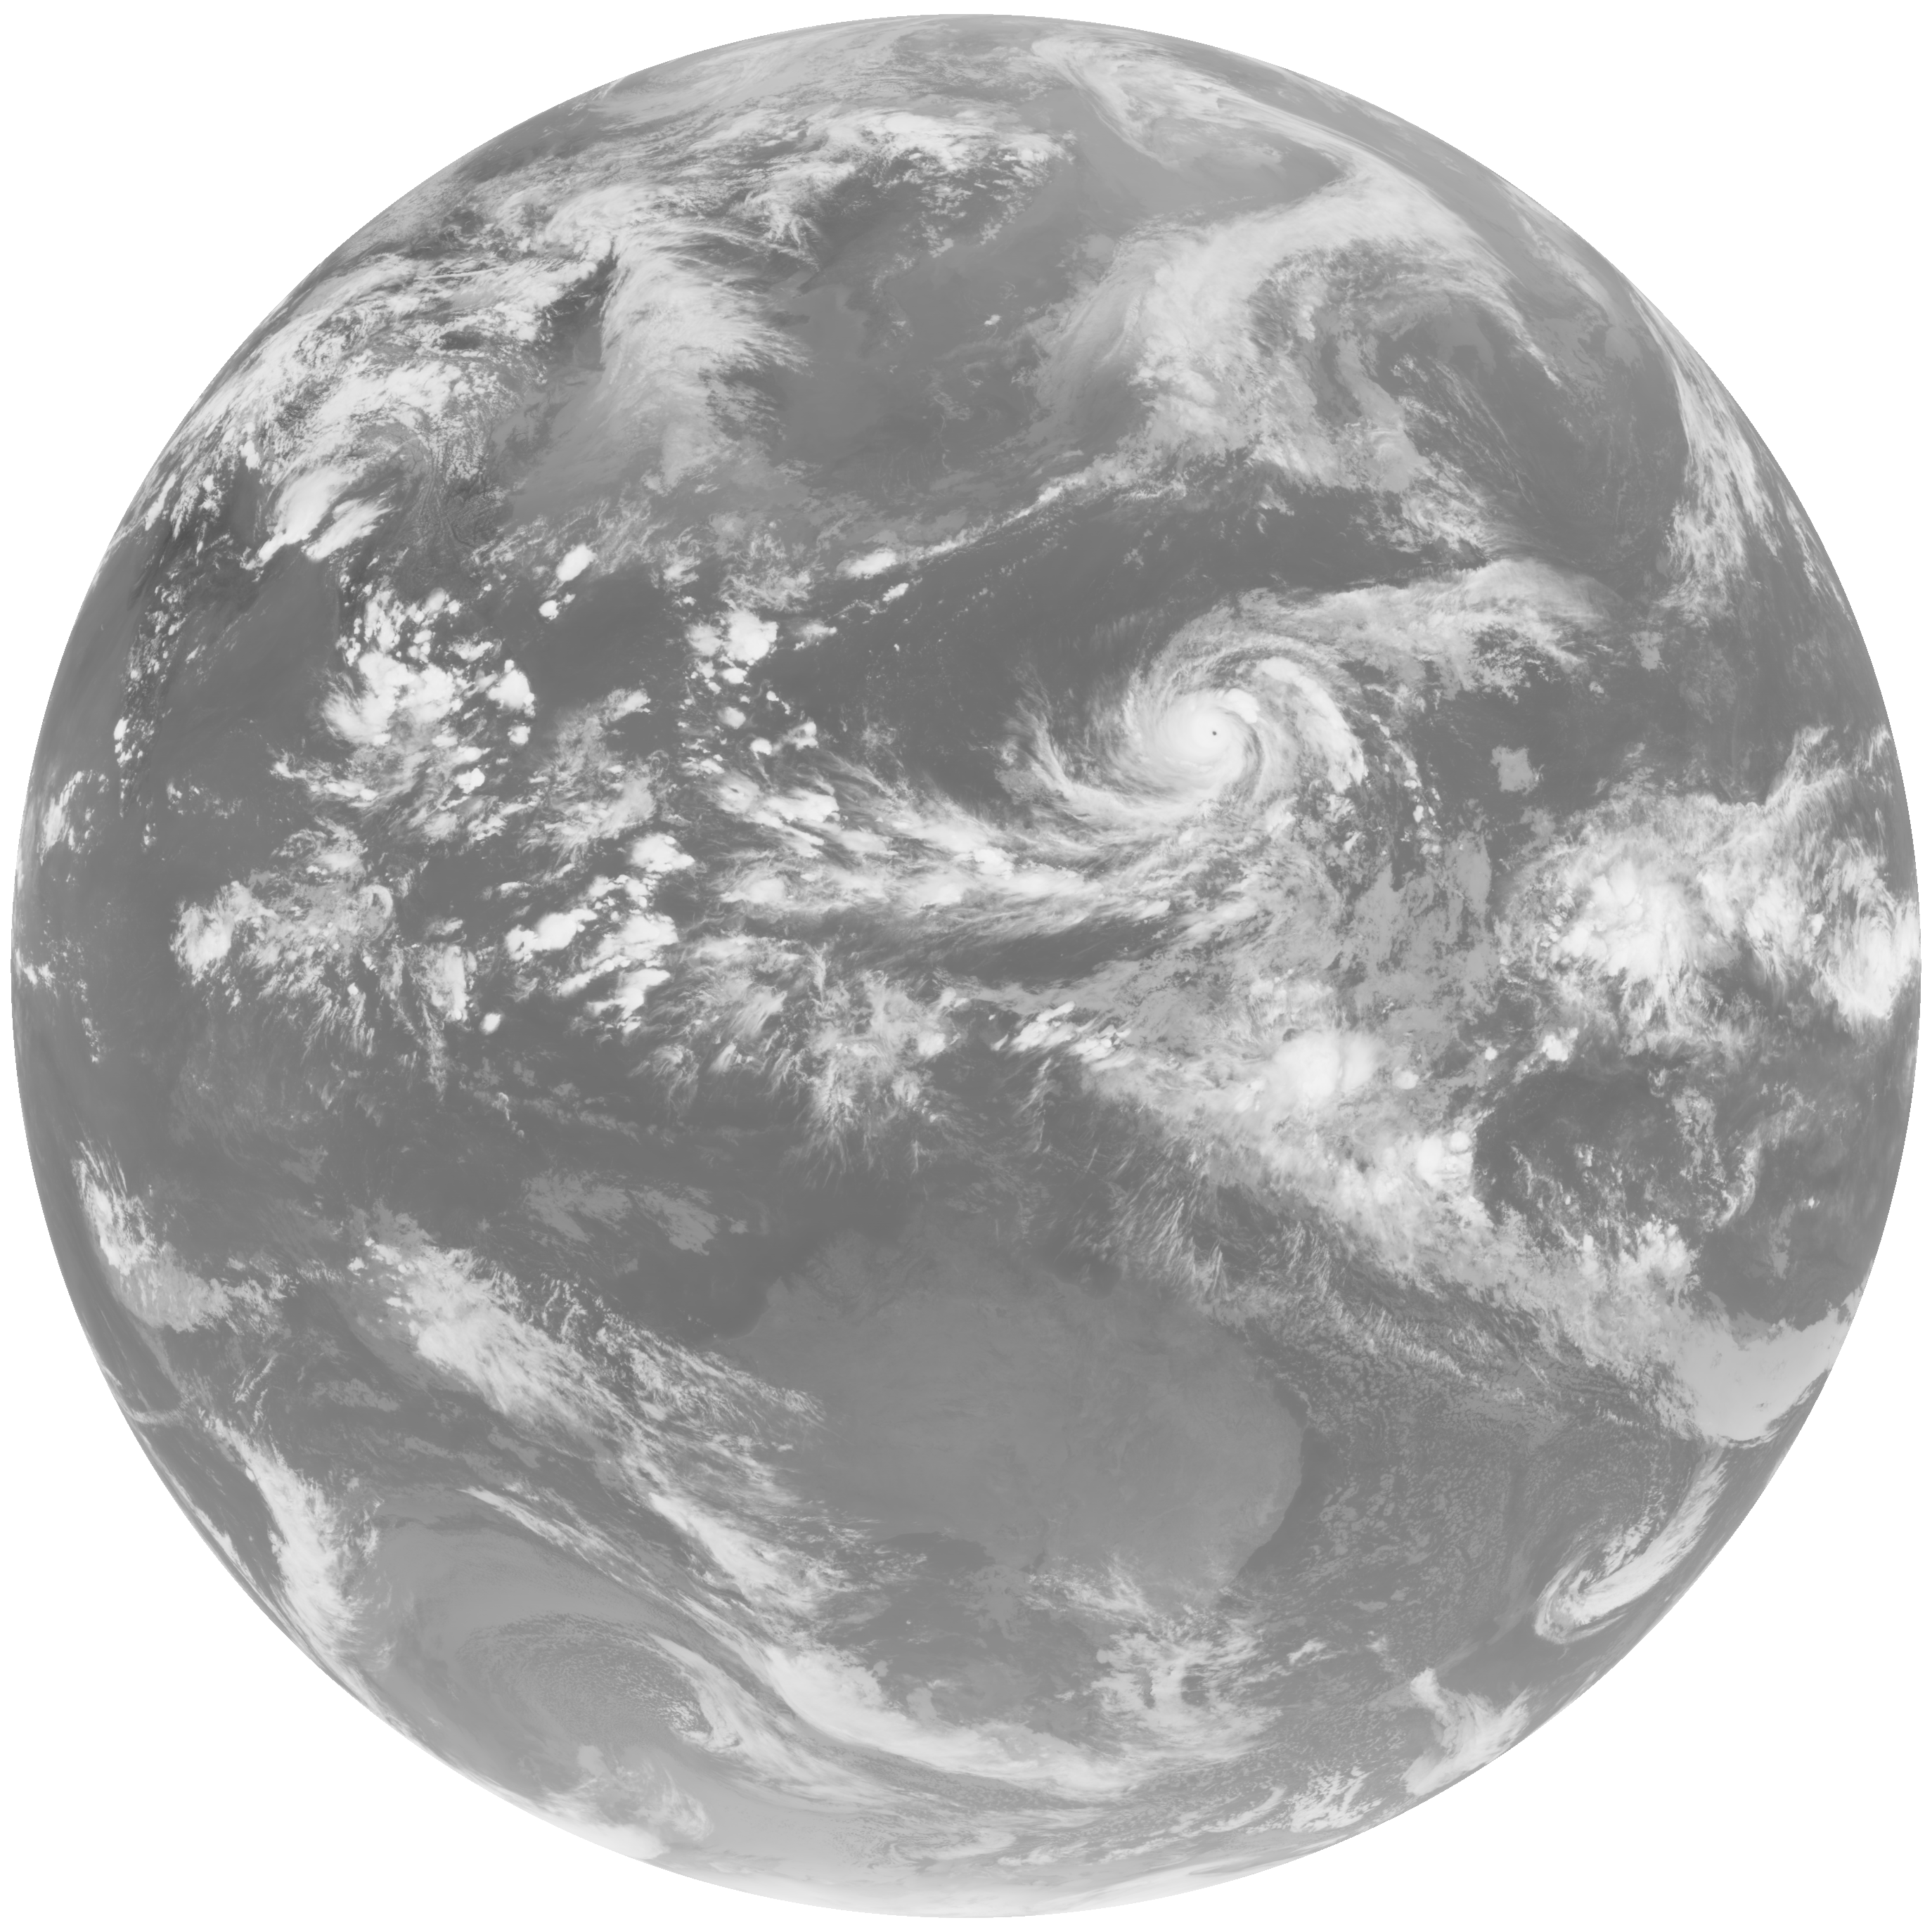typhoon: (948, 564, 1476, 943)
